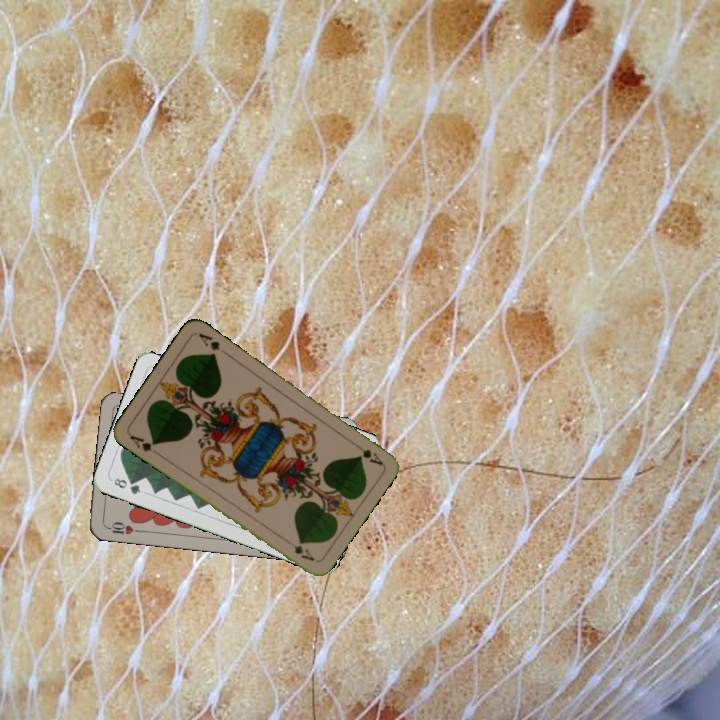G8: (110, 474, 143, 497)
GA: (349, 439, 385, 468), (125, 431, 159, 454)
H10: (103, 517, 143, 537)
